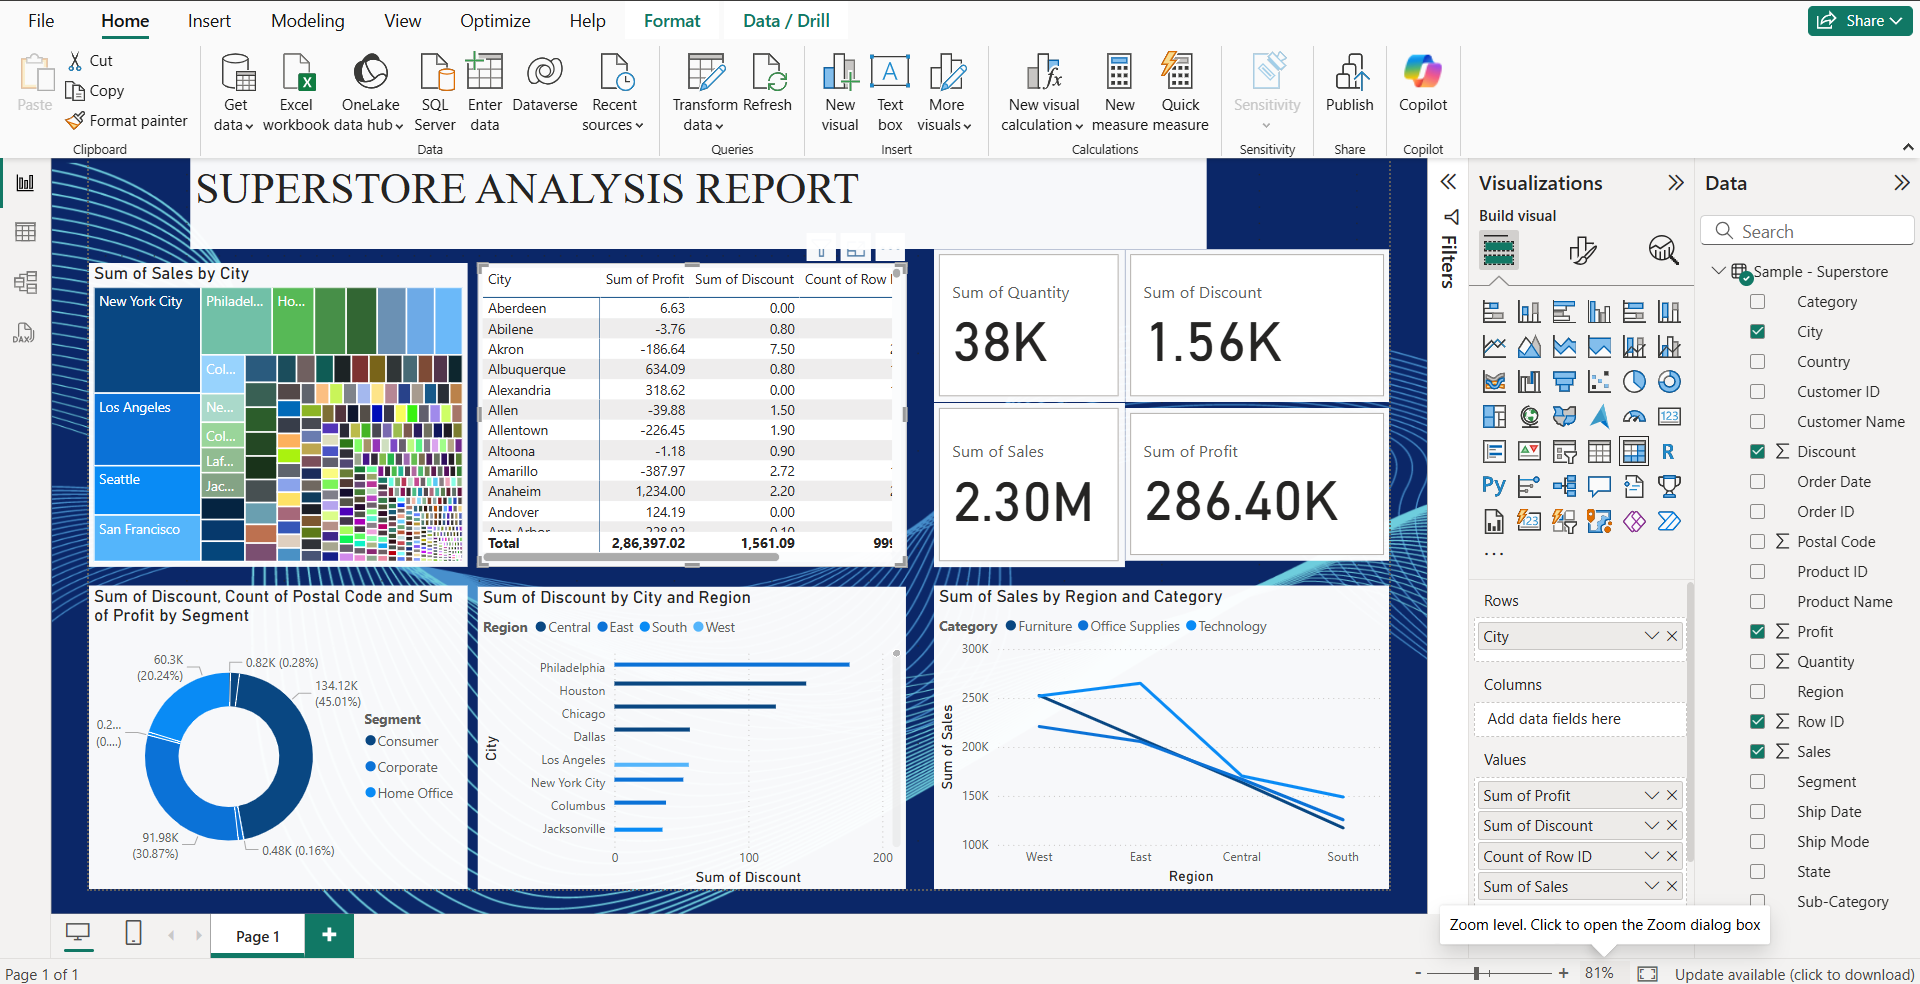

What the dashboard file says about the page in this screenshot:
{"tool":"powerbi","page":{"name":"Page 1","canvas":[1280,720],"ordinal":0},"visuals":[{"type":"lineChart","fields":{"Y":["Sum(Sample - Superstore.Sales)"],"Category":["Sample - Superstore.Region"],"Series":["Sample - Superstore.Category"]},"box":[832,420.9,448,299.1],"z":0},{"type":"clusteredBarChart","fields":{"Series":["Sample - Superstore.Region"],"Category":["Sample - Superstore.City"],"Y":["Sum(Sample - Superstore.Discount)"]},"box":[382.6,421.6,421.6,299.1],"z":1000},{"type":"donutChart","fields":{"Y":["Sum(Sample - Superstore.Discount)","CountNonNull(Sample - Superstore.Postal Code)","Sum(Sample - Superstore.Profit)"],"Category":["Sample - Superstore.Segment"]},"box":[0,420.9,372.9,299.1],"z":2000},{"type":"treemap","fields":{"Values":["Sum(Sample - Superstore.Sales)"],"Group":["Sample - Superstore.City"]},"box":[0,103,372.9,299.1],"z":3000},{"type":"pivotTable","fields":{"Values":["Sum(Sample - Superstore.Profit)","Sum(Sample - Superstore.Discount)","CountNonNull(Sample - Superstore.Row ID)","Sum(Sample - Superstore.Sales)"],"Rows":["Sample - Superstore.City"]},"box":[383,103,422,299],"z":4000},{"type":"cardVisual","fields":{"Data":["Sum(Sample - Superstore.Sales)"]},"box":[832,240.7,187.8,161.4],"z":5000},{"type":"cardVisual","fields":{"Data":["Sum(Sample - Superstore.Profit)"]},"box":[1019.8,246.3,260.2,150.3],"z":6000},{"type":"cardVisual","fields":{"Data":["Sum(Sample - Superstore.Quantity)"]},"box":[832,90.4,187.8,150.3],"z":7000},{"type":"cardVisual","fields":{"Data":["Sum(Sample - Superstore.Discount)"]},"box":[1020,90,260,150],"z":8000},{"type":"textbox","box":[99.7,0,1000.6,89.8],"z":9000}]}

Visuals, with their boxes on the page's 1280x720 design canvas (x1, y1, x2, y2). These are canvas units, not pixel positions in the 1920x984 screenshot, which may show the page scaled, cropped or inside an application window:
lineChart - Sum(Sample - Superstore.Sales) x Sample - Superstore.Region: Rect(832, 421, 1280, 720)
clusteredBarChart - Sample - Superstore.Region x Sample - Superstore.City: Rect(383, 422, 804, 721)
donutChart - Sum(Sample - Superstore.Discount) x CountNonNull(Sample - Superstore.Postal Code): Rect(0, 421, 373, 720)
treemap - Sum(Sample - Superstore.Sales) x Sample - Superstore.City: Rect(0, 103, 373, 402)
pivotTable - Sum(Sample - Superstore.Profit) x Sum(Sample - Superstore.Discount): Rect(383, 103, 805, 402)
cardVisual - Sum(Sample - Superstore.Sales): Rect(832, 241, 1020, 402)
cardVisual - Sum(Sample - Superstore.Profit): Rect(1020, 246, 1280, 397)
cardVisual - Sum(Sample - Superstore.Quantity): Rect(832, 90, 1020, 241)
cardVisual - Sum(Sample - Superstore.Discount): Rect(1020, 90, 1280, 240)
textbox: Rect(100, 0, 1100, 90)
